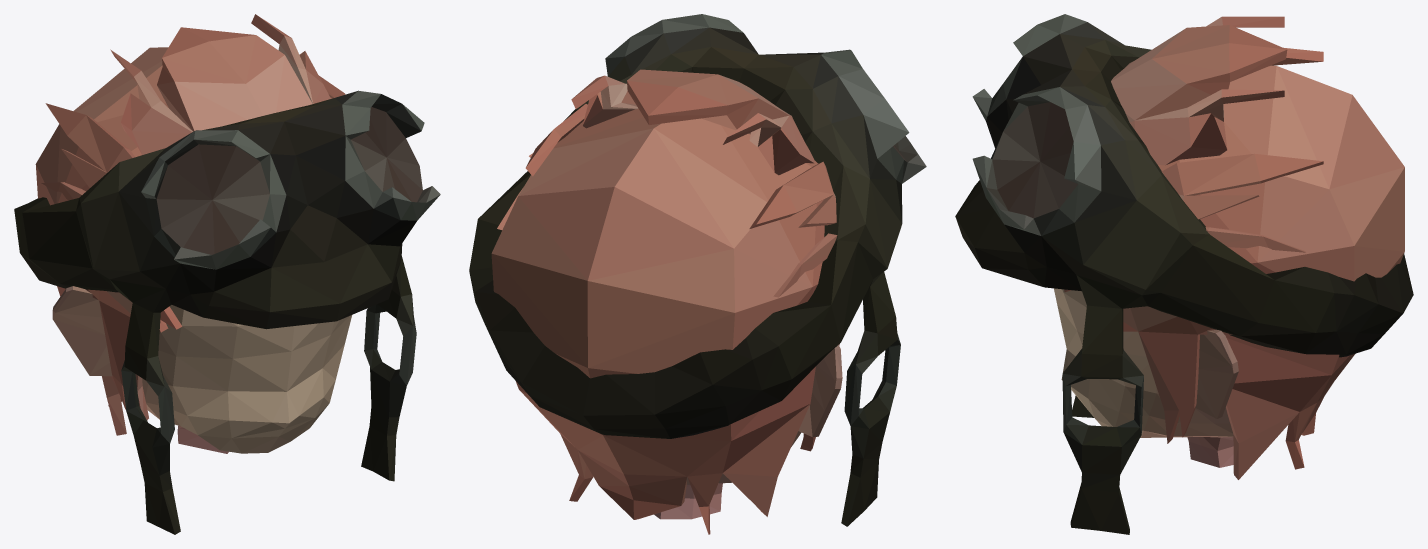
File: helm_lightskin_spike_blonde_goggles.fbx
3 renders of one model, left to right at view 1: azimuth 30°, elevation 25°; view 2: azimuth 150°, elevation 25°; view 3: azimuth 270°, elevation 25°, orthographic. The views are drawn at different scales.
Parts seen in each view (by area): view 1: helm_lightskin_spike_blonde_goggles; view 2: helm_lightskin_spike_blonde_goggles; view 3: helm_lightskin_spike_blonde_goggles.
Part boxes in pixels (box(x1,y1,x2,y2)): helm_lightskin_spike_blonde_goggles: box(14, 14, 440, 534); helm_lightskin_spike_blonde_goggles: box(469, 14, 926, 534); helm_lightskin_spike_blonde_goggles: box(955, 14, 1413, 534).
Bounding box in the file's own units: 1.21 × 1.45 × 1.39.
